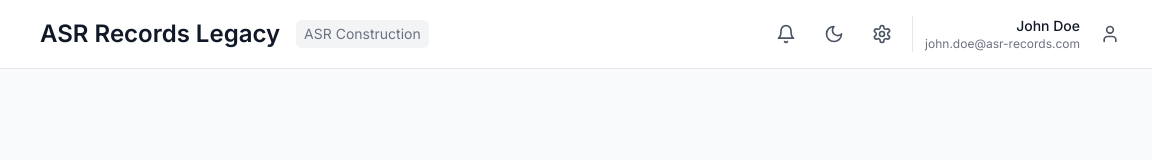
Test: Header › opens user menu dropdown on click
Click the button named "user menu" at point(1110, 34), box [1092,16,1128,52]
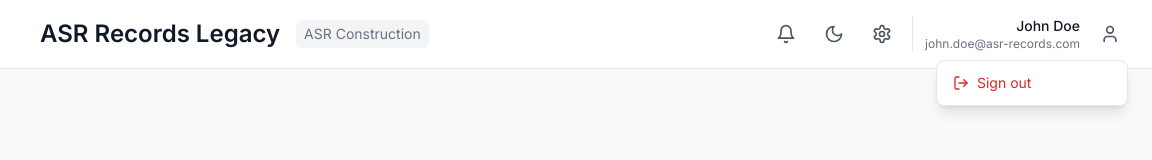
expect the text "Sign out" is shown: met, box [977,73,1031,93]
